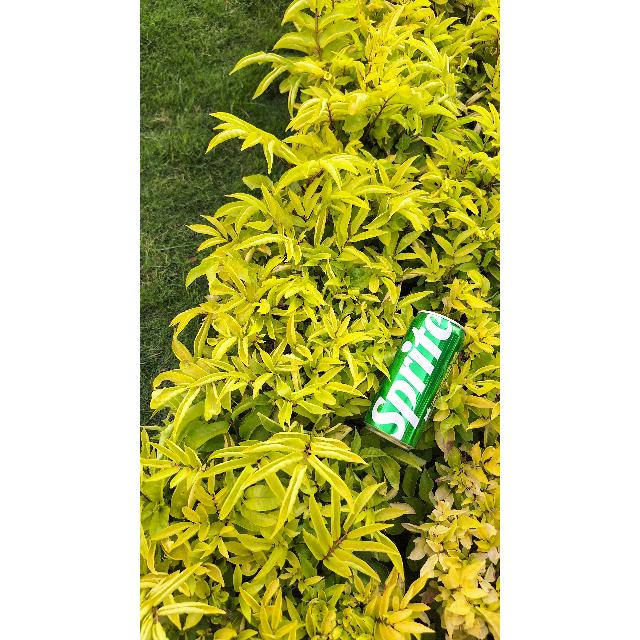Sprite: (368, 308, 467, 444)
